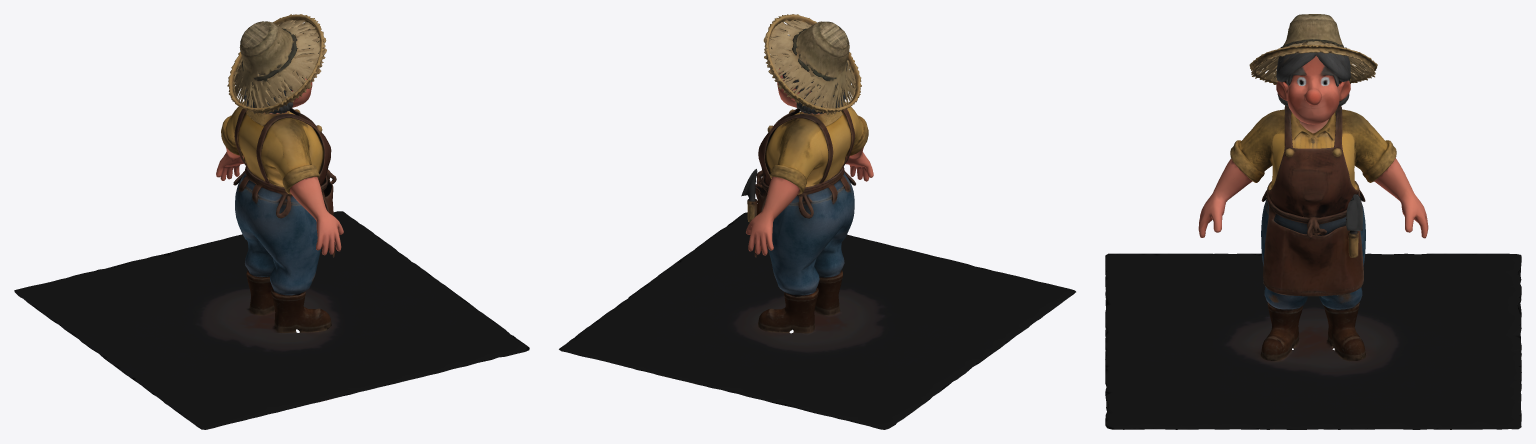
The model's file is npc_ida_t1.glb.
The picture shows the model from 3 angles, left to right: view 1: azimuth 30°, elevation 25°; view 2: azimuth 150°, elevation 25°; view 3: azimuth 270°, elevation 25°; orthographic projection. The views are drawn at different scales.
Visible parts, largest first — view 1: geometry_0; view 2: geometry_0; view 3: geometry_0.
Part boxes in pixels (left/top/right/bottom): geometry_0: left=14, top=14, right=529, bottom=429; geometry_0: left=559, top=14, right=1075, bottom=429; geometry_0: left=1105, top=14, right=1521, bottom=429.
Bounding box in the file's own units: 1 × 0.8642 × 1.
Materials: 1 (1 with a texture image).
